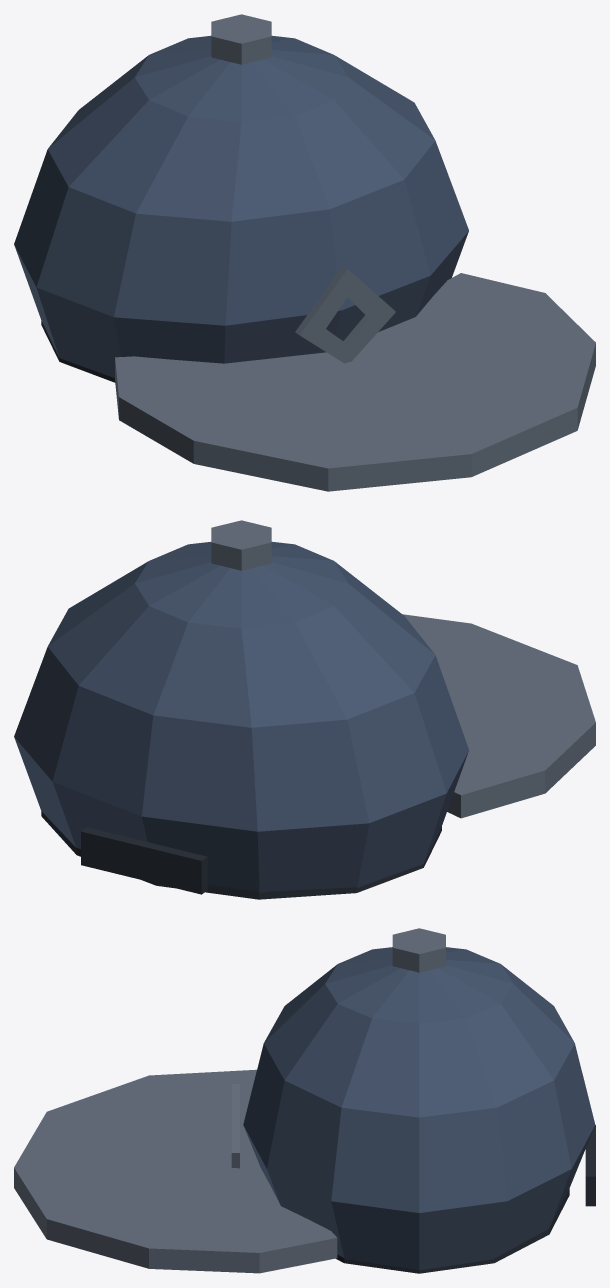
3 views of the same model, one above another, from view 1: azimuth 30°, elevation 25°; view 2: azimuth 150°, elevation 25°; view 3: azimuth 270°, elevation 25° (orthographic). The views are drawn at different scales.
Parts seen in each view (by area): view 1: Copa do boné, Aba angular, Emblema frontal, Botão superior; view 2: Copa do boné, Aba angular, Fecho posterior, Botão superior, Faixa interna; view 3: Copa do boné, Aba angular, Botão superior, Faixa interna, Fecho posterior, Emblema frontal.
Boxes of the visible parts, x1,y1,x2,y2 form: Copa do boné: (14,35,468,377); Aba angular: (115,273,595,491); Emblema frontal: (295,265,395,363); Botão superior: (211,14,271,64); Copa do boné: (14,541,468,892); Aba angular: (403,614,595,818); Fecho posterior: (81,827,207,894); Botão superior: (211,520,271,570); Faixa interna: (41,811,441,899); Copa do boné: (243,947,595,1270); Aba angular: (14,1069,337,1273); Botão superior: (392,928,445,972); Faixa interna: (336,1189,569,1273); Fecho posterior: (585,1125,595,1206); Emblema frontal: (231,1084,239,1168).
Size of the model in its own units: 1.06 by 0.685 by 1.42.
